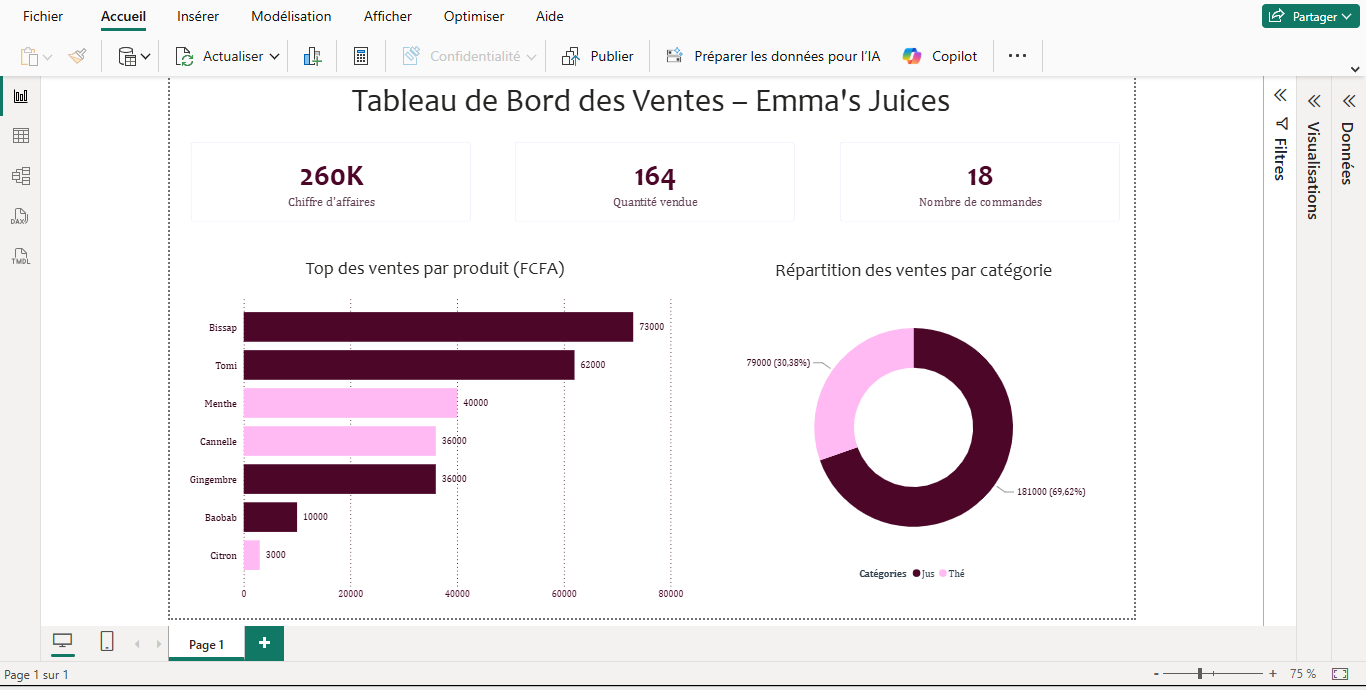

The dashboard page shown, as its layout file describes it:
{"tool":"powerbi","page":{"name":"Page 1","canvas":[1280,720],"ordinal":0},"visuals":[{"type":"cardVisual","fields":{"Data":["Sum(Tableau1.Montant_Total_FCFA)"]},"box":[10,70,406.8,140],"z":0},{"type":"cardVisual","fields":{"Data":["Sum(Tableau1.Quantite)"]},"box":[441.6,70,406.8,140],"z":1000},{"type":"clusteredBarChart","title":"Top des ventes par produit (FCFA)","fields":{"Category":["Tableau1.Produit"],"Y":["Sum(Tableau1.Montant_Total_FCFA)"]},"box":[16,240,672,464],"z":1000},{"type":"cardVisual","fields":{"Data":["Count(Tableau1.Id_Vente)"]},"box":[873.2,70,406.8,140],"z":2000},{"type":"donutChart","title":"Répartition des ventes par catégorie","fields":{"Category":["Tableau1.Categorie"],"Y":["Sum(Tableau1.Montant_Total_FCFA)"]},"box":[718.3,243.3,538.3,436.7],"z":2000},{"type":"textbox","box":[216.7,0,845,71.7],"z":3000}]}

Visuals, with their boxes on the page's 1280x720 design canvas (x1, y1, x2, y2). These are canvas units, not pixel positions in the 1366x690 screenshot, which may show the page scaled, cropped or inside an application window:
cardVisual - Sum(Tableau1.Montant_Total_FCFA): select_region(10, 70, 417, 210)
cardVisual - Sum(Tableau1.Quantite): select_region(442, 70, 848, 210)
"Top des ventes par produit (FCFA)" clusteredBarChart: select_region(16, 240, 688, 704)
cardVisual - Count(Tableau1.Id_Vente): select_region(873, 70, 1280, 210)
"Répartition des ventes par catégorie" donutChart: select_region(718, 243, 1257, 680)
textbox: select_region(217, 0, 1062, 72)
